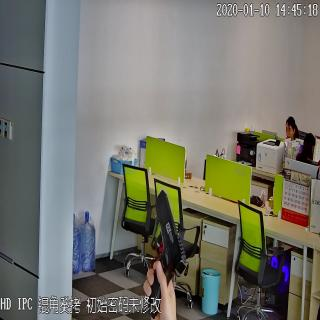gun: (141, 187, 197, 319)
